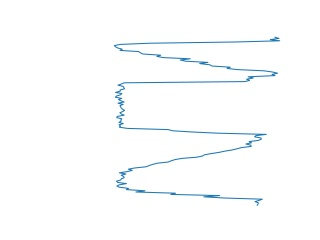mouthBar: (111, 35, 283, 77)
underwaterDistributaryChannel: (111, 137, 267, 208), (111, 72, 269, 141)
